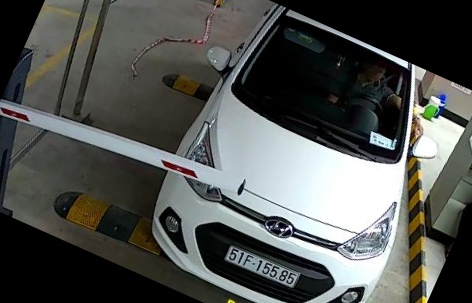plate: (219, 230, 314, 291)
